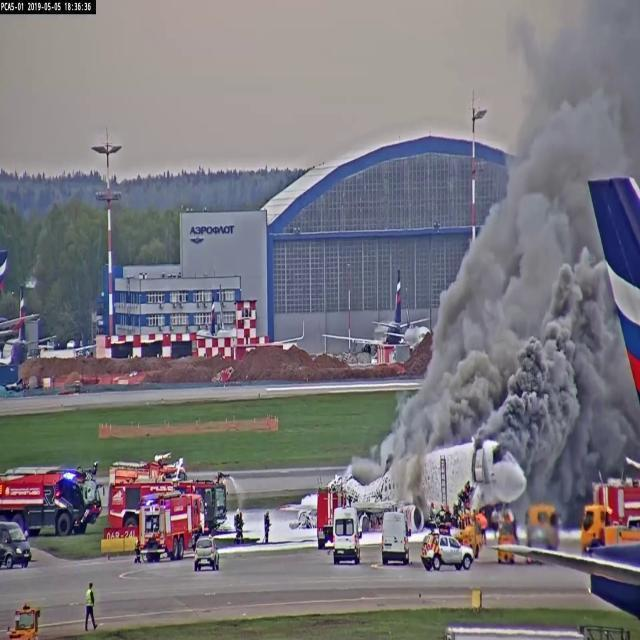Smoke: (519, 1, 640, 177), (522, 236, 609, 453), (500, 319, 572, 458), (432, 331, 508, 435)
